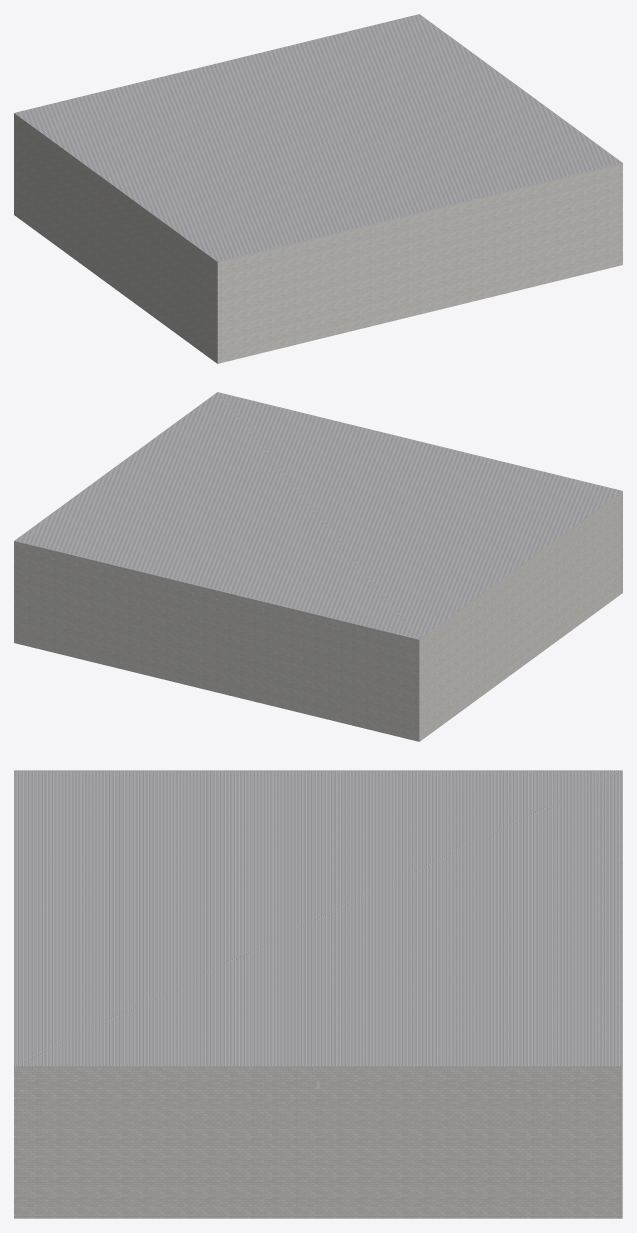
File: gym_modern.glb
The picture shows the model from 3 angles, top to bottom: view 1: azimuth 30°, elevation 25°; view 2: azimuth 150°, elevation 25°; view 3: azimuth 270°, elevation 25°; orthographic projection. The views are drawn at different scales.
Parts seen in each view (by area): view 1: M_Roof, M_Wall_CMU; view 2: M_Roof, M_Wall_CMU; view 3: M_Roof, M_Wall_CMU.
Boxes of the visible parts, bbox=[...] form: M_Roof: bbox=[14, 14, 622, 261]; M_Wall_CMU: bbox=[14, 113, 622, 363]; M_Roof: bbox=[14, 392, 622, 639]; M_Wall_CMU: bbox=[14, 491, 622, 741]; M_Roof: bbox=[14, 770, 622, 1066]; M_Wall_CMU: bbox=[14, 1066, 622, 1218].
Size of the model in its own units: 52 by 12.5 by 45.22.
Materials: 19 (4 with a texture image).
